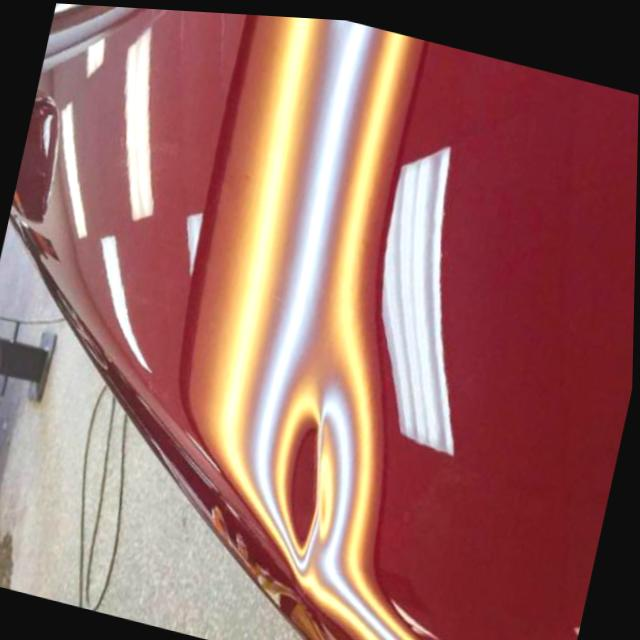Dent: (288, 420, 324, 557)
PDR-Dent: (235, 309, 382, 615)
